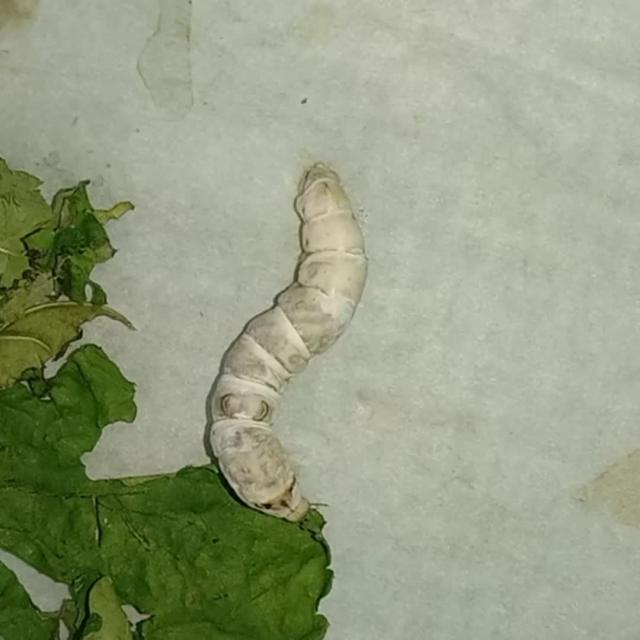Grasserie: (178, 143, 395, 560)
